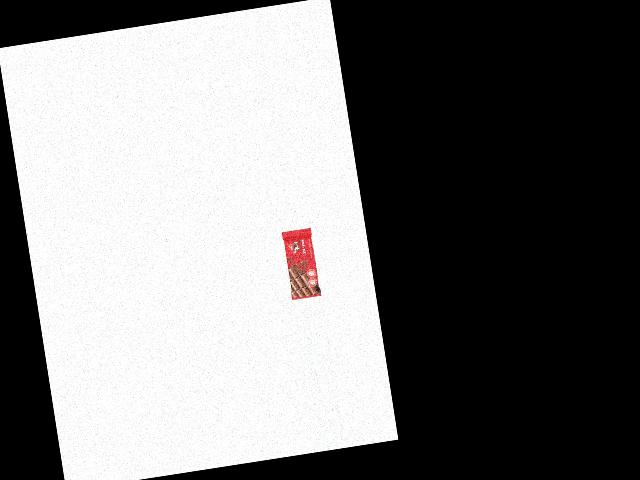chocolate: (281, 226, 321, 300)
